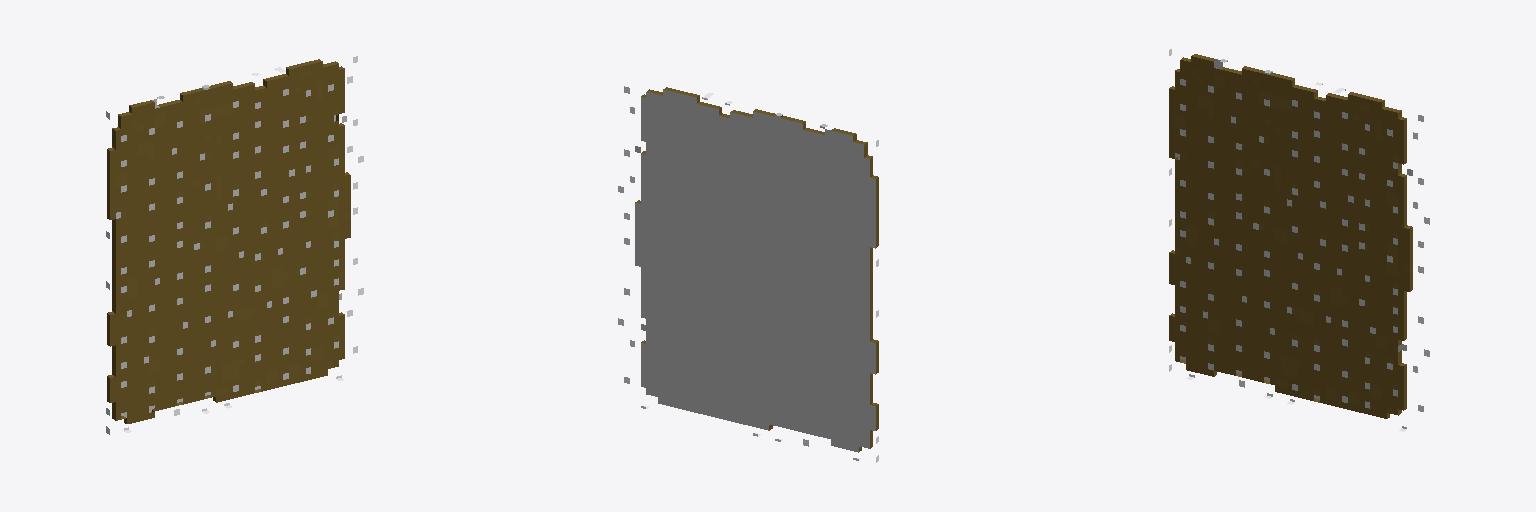
3 views of the same model, side by side, from view 1: azimuth 30°, elevation 25°; view 2: azimuth 150°, elevation 25°; view 3: azimuth 330°, elevation 25° (orthographic).
Parts seen in each view (by area): view 1: Object.1; view 2: Object.1; view 3: Object.1.
Part boxes in pixels (left/top/right/bottom): Object.1: left=107, top=59, right=350, bottom=423; Object.1: left=635, top=87, right=878, bottom=452; Object.1: left=1169, top=54, right=1412, bottom=418.
Bounding box in the file's own units: 42.42 × 51.25 × 11.85.
Materials: 1 (1 with a texture image).